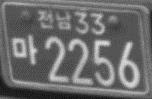2: (43, 34, 69, 84), (67, 37, 93, 85)
3: (89, 12, 106, 36), (74, 10, 89, 35)
5: (93, 38, 115, 87)
6: (118, 40, 141, 88)
마: (11, 33, 36, 65)
전남_O: (36, 8, 72, 31)
